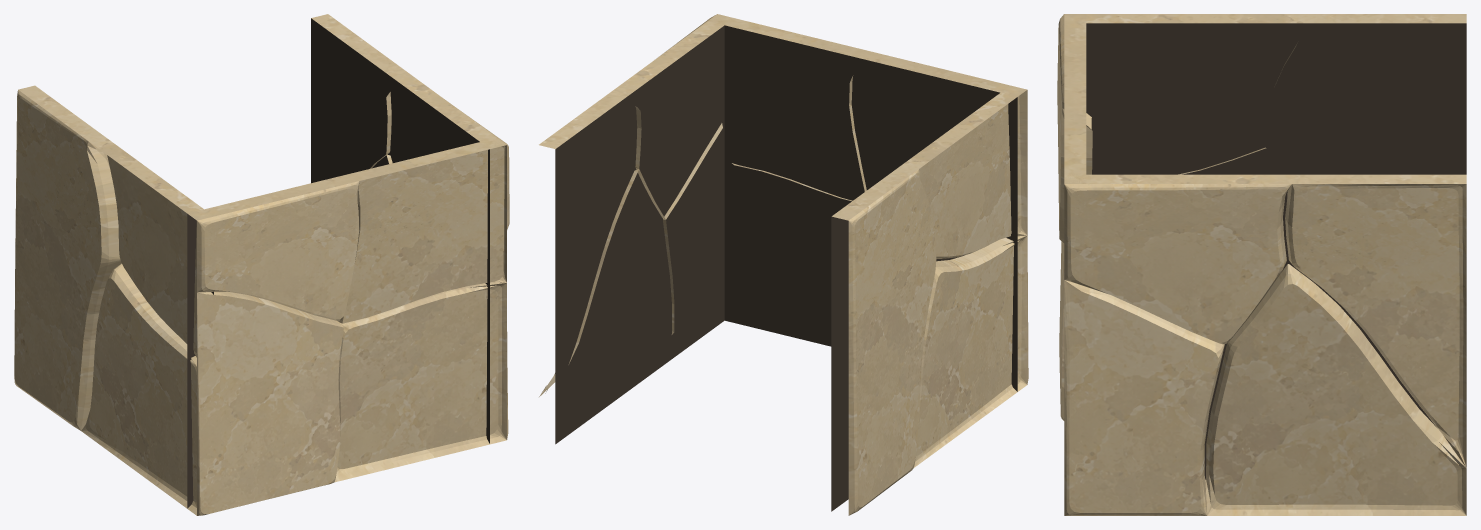
File: ground_end_04.glb
3 views of the same model, side by side, from view 1: azimuth 30°, elevation 25°; view 2: azimuth 150°, elevation 25°; view 3: azimuth 270°, elevation 25° (orthographic). The views are drawn at different scales.
Visible parts, largest first — view 1: GroundEnd04_Body; view 2: GroundEnd04_Body; view 3: GroundEnd04_Body.
Boxes of the visible parts, bbox=[...] form: GroundEnd04_Body: bbox=[14, 14, 509, 515]; GroundEnd04_Body: bbox=[539, 14, 1028, 515]; GroundEnd04_Body: bbox=[1057, 14, 1466, 515].
Bounding box in the file's own units: 1.04 × 0.91 × 1.02.
Materials: 13 (12 with a texture image).
